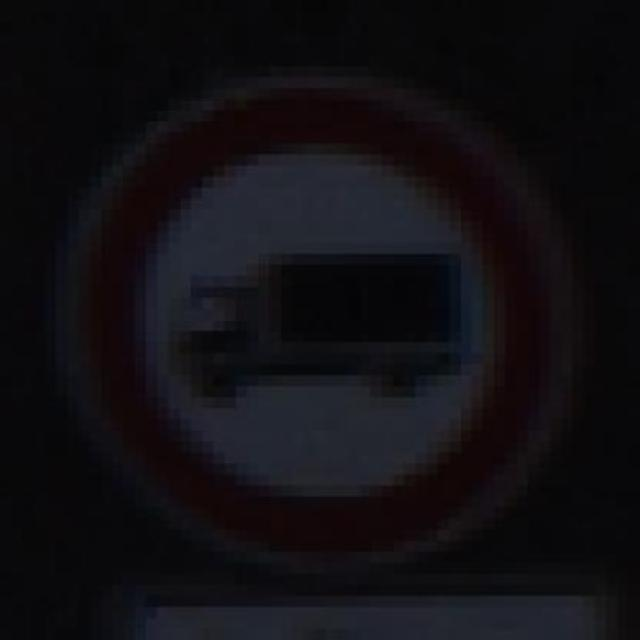Truck traffic is prohibited: (34, 77, 595, 574)
